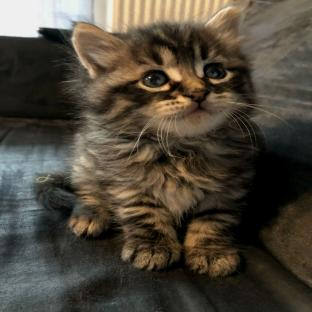Animal: (37, 6, 259, 277)
